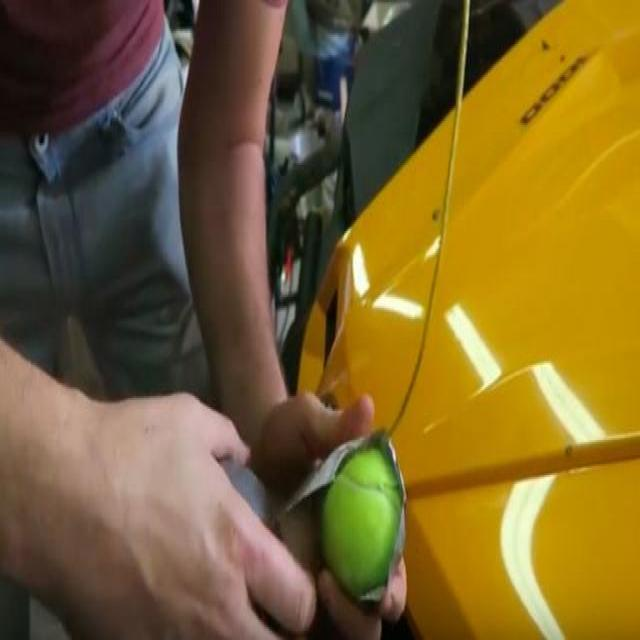Tennis-Ball: (314, 411, 416, 614)
